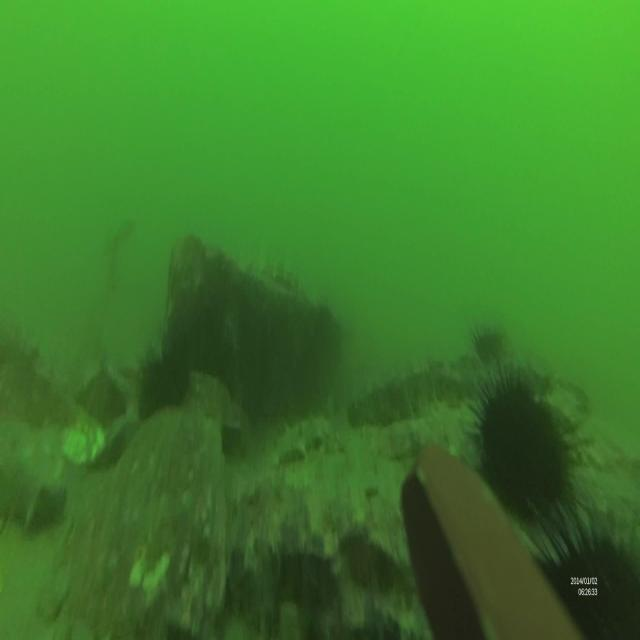echinus: (469, 359, 577, 526), (534, 512, 640, 640), (129, 345, 189, 421), (467, 318, 511, 368)
holothurian: (232, 254, 308, 300), (278, 416, 334, 464)
